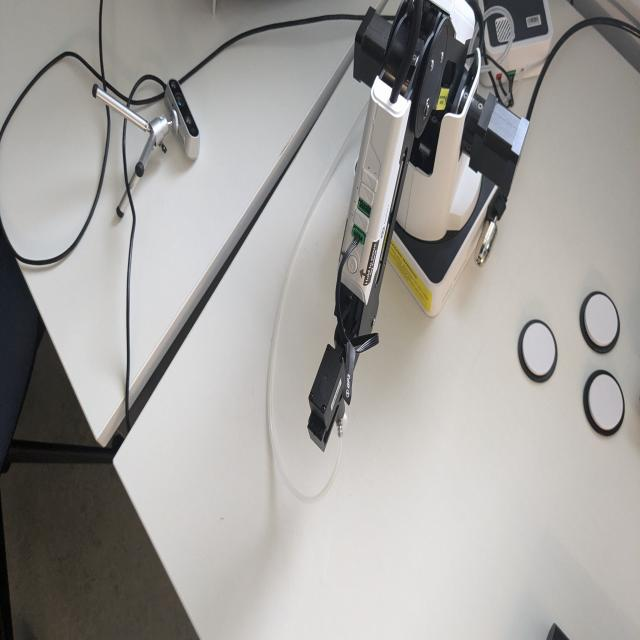Robot-end-effector-HF8z: (302, 340, 349, 456)
